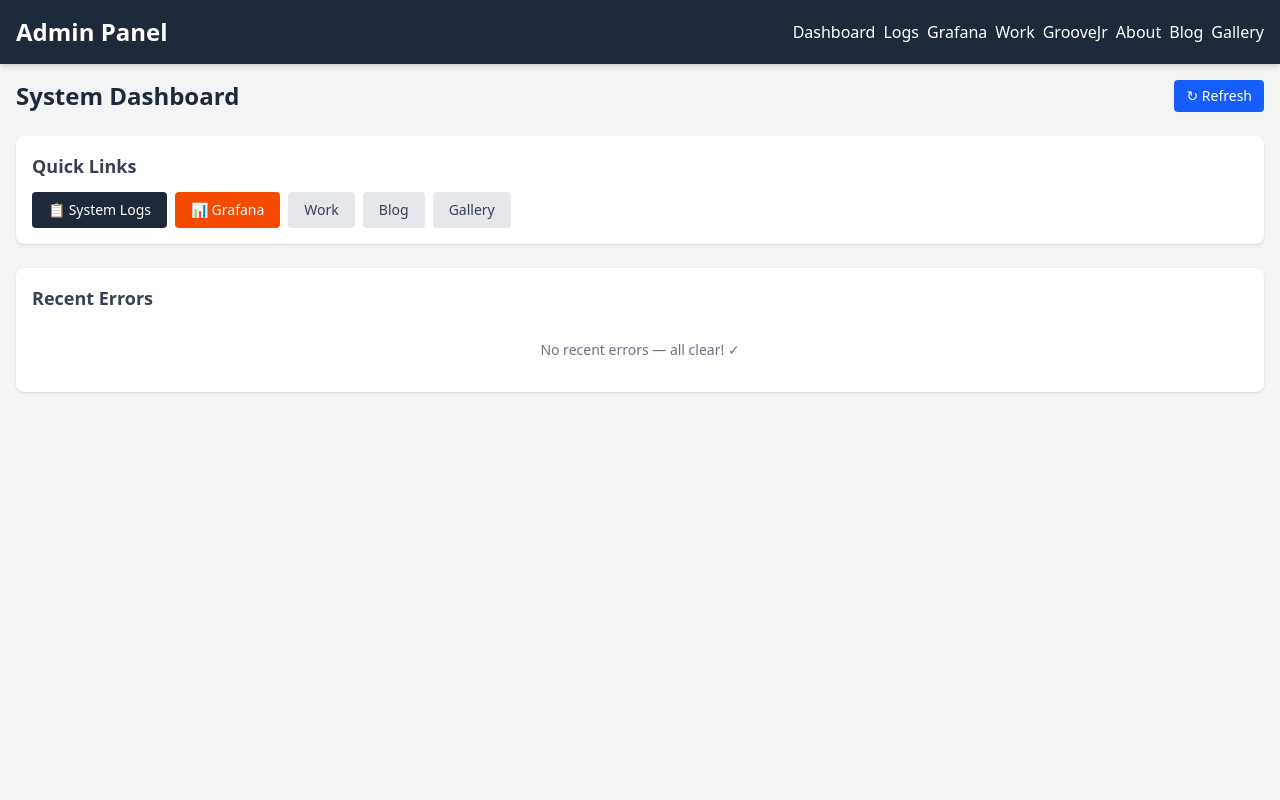
Test case: Admin App › should switch to history mode
Expected: the heading "Admin Panel" is shown, x1=16 y1=16 x2=168 y2=48
Click the link with test id "nav-admin-logs" at point(902, 32), box x1=884 y1=20 x2=920 y2=44
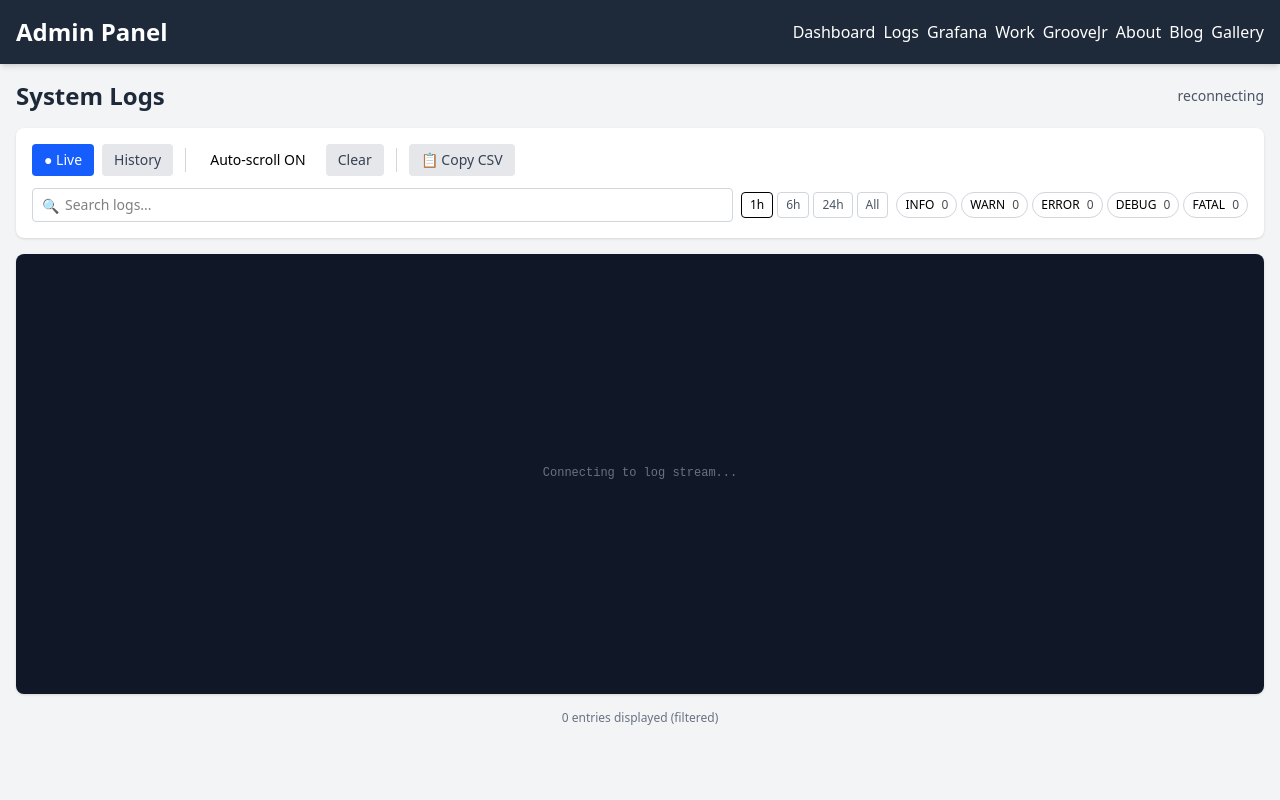
Click the button with test id "logs-history-btn" at point(138, 160), box x1=102 y1=144 x2=173 y2=176
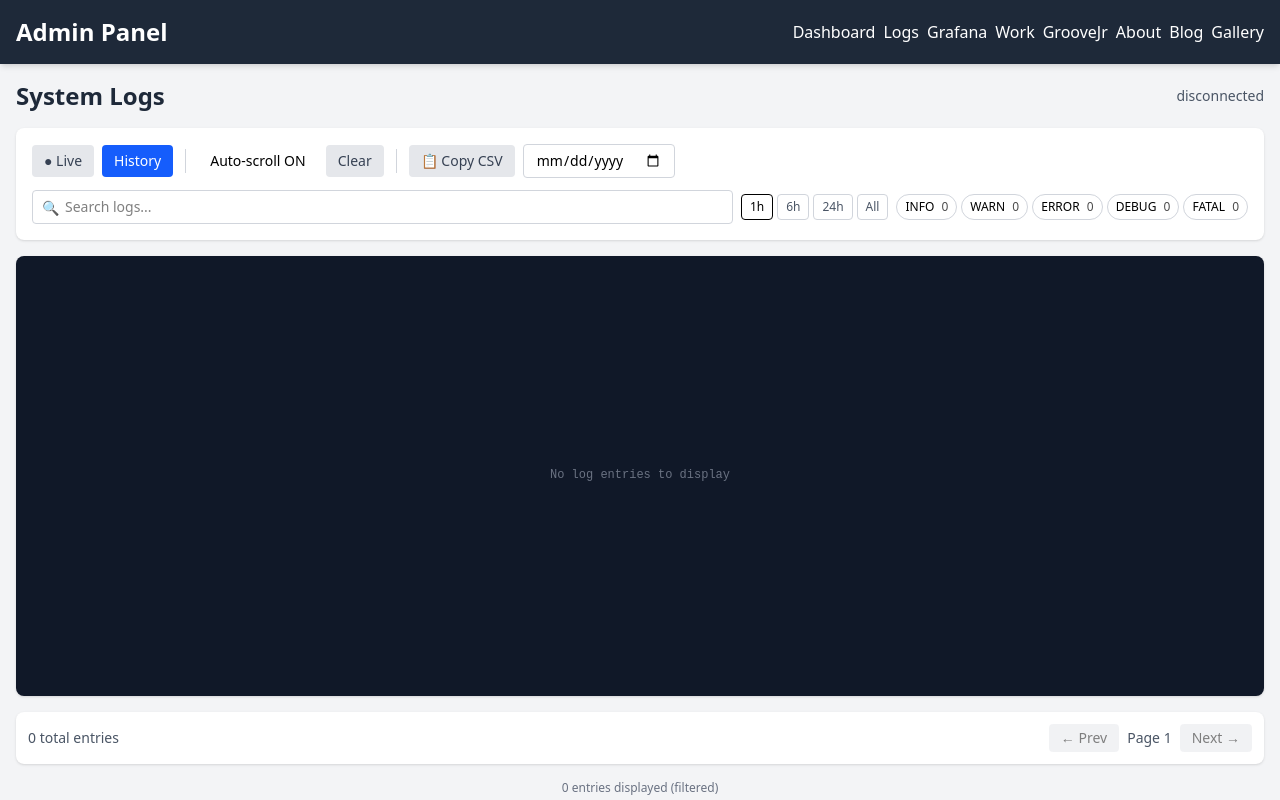
Expected: the element with test id "logs-pagination" is shown, x1=16 y1=712 x2=1264 y2=764
Expected: the date field with test id "logs-date-picker" is shown, x1=523 y1=144 x2=675 y2=178
